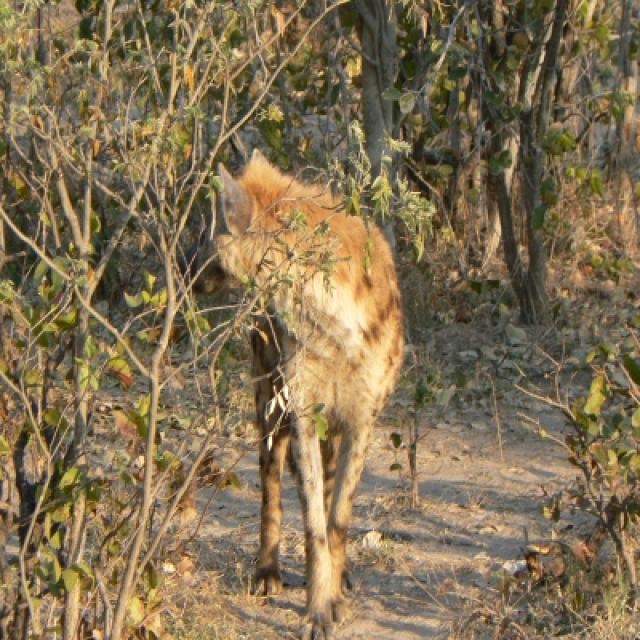hyena: (205, 150, 402, 638)
